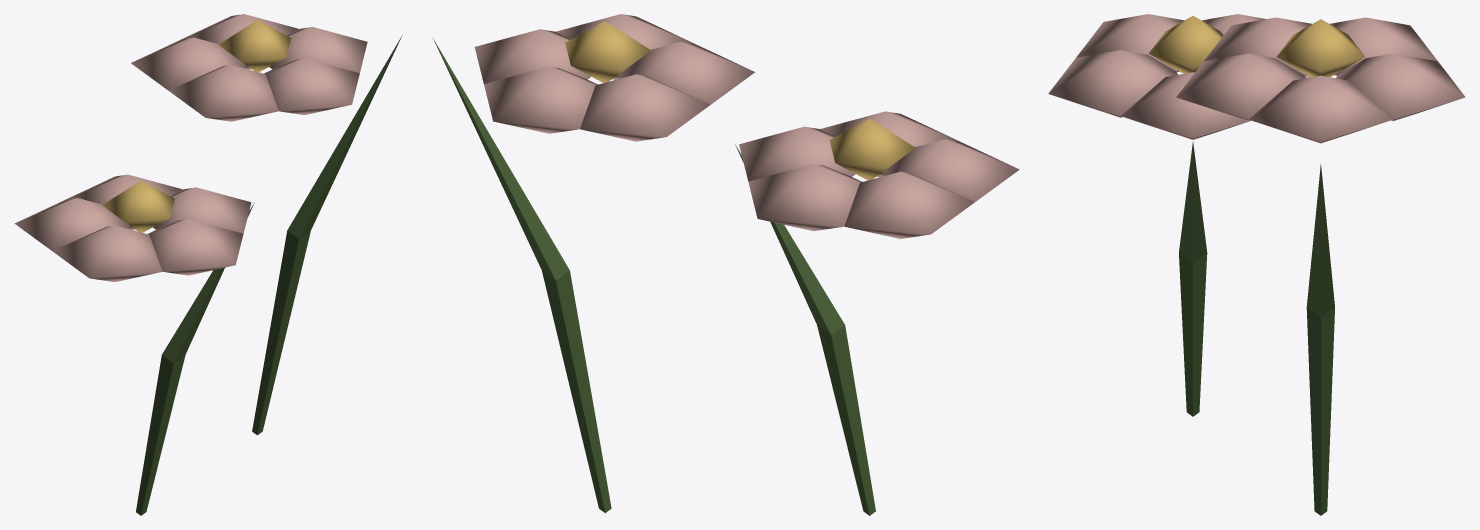
The model's file is env-flower-3.glb.
The picture shows the model from 3 angles, left to right: view 1: azimuth 30°, elevation 25°; view 2: azimuth 150°, elevation 25°; view 3: azimuth 270°, elevation 25°; orthographic projection. The views are drawn at different scales.
Parts seen in each view (by area): view 1: env-flower-3; view 2: env-flower-3; view 3: env-flower-3.
Part boxes in pixels (left/top/right/bottom): env-flower-3: left=14, top=14, right=402, bottom=515; env-flower-3: left=432, top=14, right=1019, bottom=515; env-flower-3: left=1048, top=14, right=1465, bottom=515.
Size of the model in its own units: 0.4774 by 0.465 by 0.3564.
